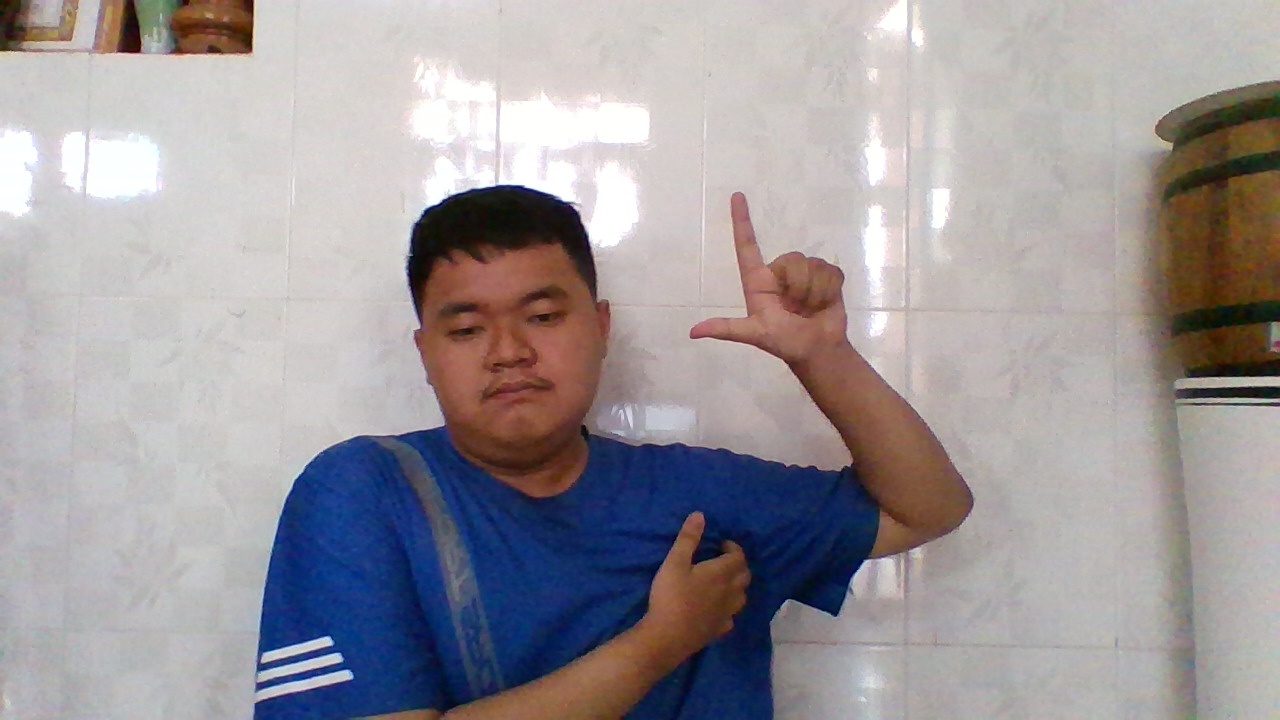L: (679, 180, 849, 367)
